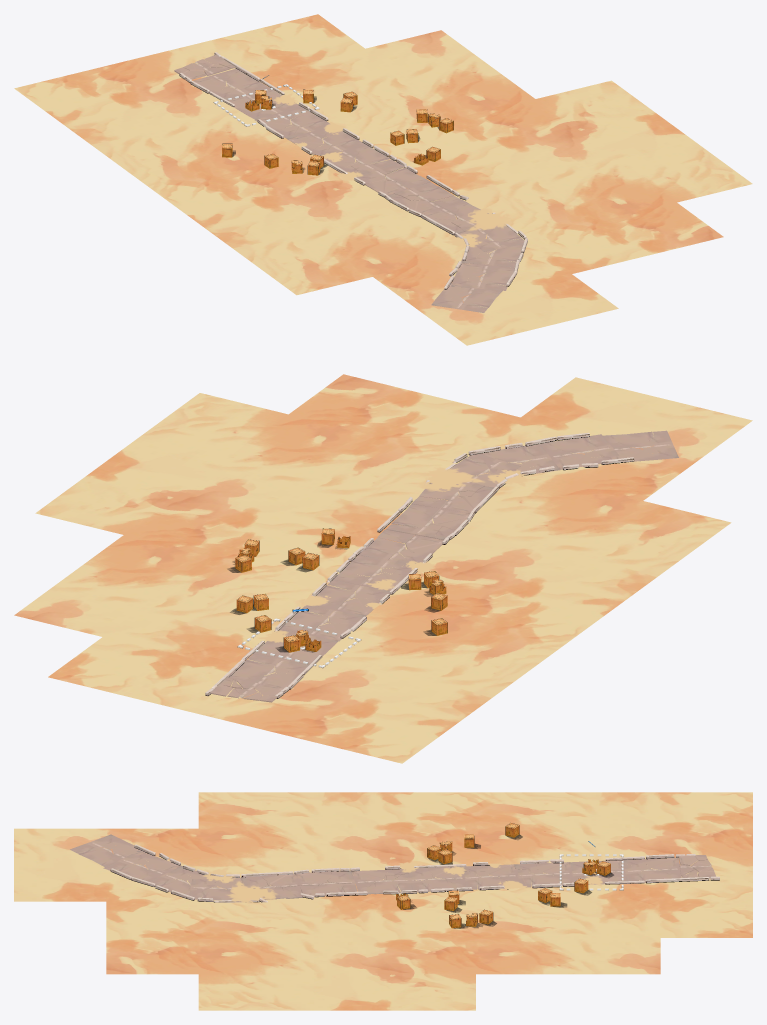
Rendered from ZombiePunk_Map.glb.
3 renders of one model, top to bottom at view 1: azimuth 30°, elevation 25°; view 2: azimuth 150°, elevation 25°; view 3: azimuth 270°, elevation 25°, orthographic. The views are drawn at different scales.
Parts seen in each view (by area): view 1: Ground_2.031, Ground_2.032, Ground_2.033, Ground_2.056, Ground_2.062, Ground_2.064, Ground_2.014, Ground_2.035, Ground_2.036, Ground_2.037, Ground_2.040, Ground_2.060 (+40 smaller); view 2: Ground_2.014, Ground_2.038, Ground_2.040, Ground_2.057, Ground_2.062, Ground_2.011, Ground_2.031, Ground_2.032, Ground_2.035, Ground_2.037, Ground_2.060, Ground_2.063 (+40 smaller); view 3: Ground_2.011, Ground_2.014, Ground_2.031, Ground_2.032, Ground_2.033, Ground_2.035, Ground_2.037, Ground_2.040, Ground_2.041, Ground_2.046, Ground_2.060, Ground_2.062 (+40 smaller).
Part boxes in pixels (x1,y1,x2,y2): Ground_2.031: (536, 80, 657, 133); Ground_2.032: (583, 115, 705, 167); Ground_2.033: (630, 149, 752, 202); Ground_2.056: (279, 189, 401, 242); Ground_2.062: (156, 173, 278, 226); Ground_2.064: (250, 242, 372, 295); Ground_2.014: (242, 14, 364, 67); Ground_2.035: (366, 30, 487, 82); Ground_2.036: (413, 64, 534, 117); Ground_2.037: (460, 99, 582, 151); Ground_2.040: (601, 202, 723, 255); Ground_2.060: (61, 104, 183, 157); Ground_2.014: (48, 637, 190, 698); Ground_2.038: (179, 454, 321, 516); Ground_2.040: (289, 374, 431, 435); Ground_2.057: (500, 479, 642, 540); Ground_2.062: (478, 581, 621, 642); Ground_2.011: (314, 702, 456, 763); Ground_2.031: (35, 473, 178, 534); Ground_2.032: (90, 433, 232, 494); Ground_2.035: (14, 575, 156, 636); Ground_2.037: (124, 495, 266, 556); Ground_2.060: (369, 661, 511, 723); Ground_2.063: (534, 541, 676, 602); Ground_2.011: (660, 792, 752, 828); Ground_2.014: (660, 901, 752, 937); Ground_2.031: (383, 974, 475, 1010); Ground_2.032: (291, 974, 383, 1010); Ground_2.033: (198, 974, 290, 1010); Ground_2.035: (568, 938, 660, 974); Ground_2.037: (383, 938, 475, 974); Ground_2.040: (106, 938, 198, 974); Ground_2.041: (568, 901, 660, 937); Ground_2.046: (106, 901, 198, 937); Ground_2.060: (568, 792, 660, 828); Ground_2.062: (383, 792, 475, 828).
Size of what is drawn, in the model's own units: 37.1 by 2.62 by 53.07.
Materials: 8 (8 with a texture image).
